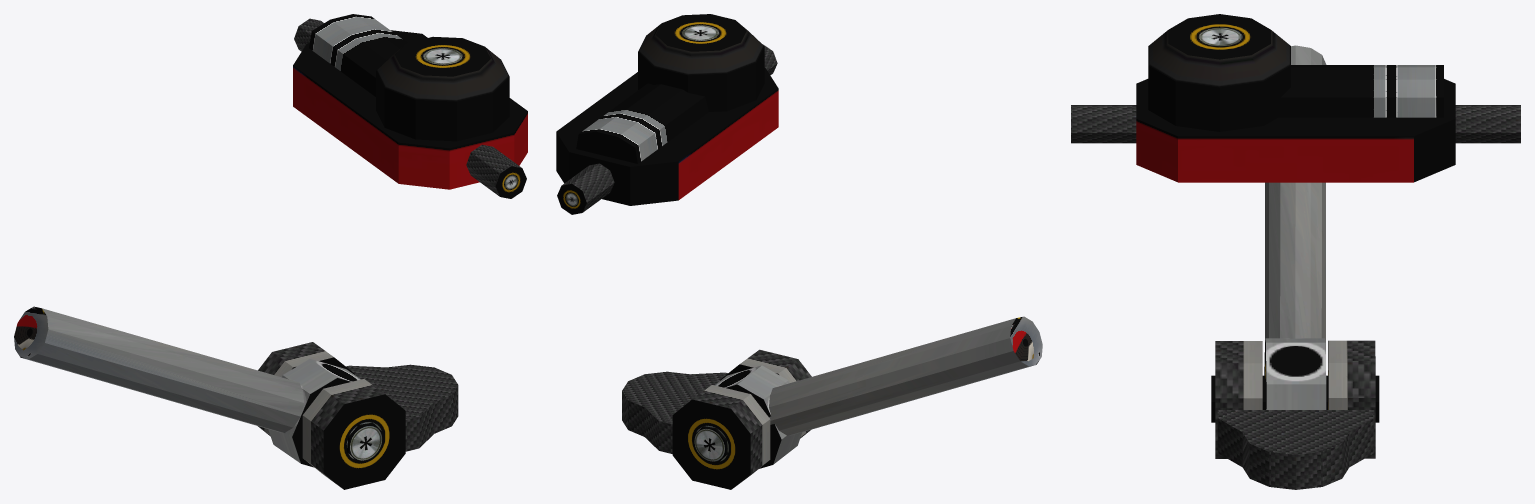
Rendered from K-WheelTraverse.fbx.
The picture shows the model from 3 angles, left to right: view 1: azimuth 30°, elevation 25°; view 2: azimuth 150°, elevation 25°; view 3: azimuth 270°, elevation 25°; orthographic projection. The views are drawn at different scales.
Visible parts, largest first — view 1: SuspMainPiston, WheeYawMount, WheeSteeringlMotor_A, WheelMotorHing_A, WheelSteeringBearing1, WheeSteeringlMotor_B, SuspMainPistonHing, WheeYawAxis, WheelMotorHing_B, SuspArmDumperHimgAxis_A1; view 2: SuspMainPiston, WheeYawMount, WheeSteeringlMotor_A, WheelMotorHing_B, WheeSteeringlMotor_B, WheelSteeringBearing1, SuspMainPistonHing, WheeYawAxis, WheelMotorHing_A, SuspArmDumperHimgAxis_A1; view 3: WheeYawMount, WheeSteeringlMotor_A, WheelSteeringBearing1, SuspMainPiston, WheeSteeringlMotor_B, WheeYawAxis, SuspMainPistonHing, WheelMotorHing_A, WheelMotorHing_B, SuspArmDumperHimgAxis_A1.
Boxes of the visible parts, <box> form: SuspMainPiston: <box>14,306,303,432</box>; WheeYawMount: <box>293,30,527,189</box>; WheeSteeringlMotor_A: <box>376,36,509,141</box>; WheelMotorHing_A: <box>302,379,405,489</box>; WheelSteeringBearing1: <box>346,364,458,451</box>; WheeSteeringlMotor_B: <box>309,14,407,96</box>; SuspMainPistonHing: <box>268,359,360,467</box>; WheeYawAxis: <box>294,18,526,198</box>; WheelMotorHing_B: <box>258,342,354,436</box>; SuspArmDumperHimgAxis_A1: <box>347,422,383,461</box>; SuspMainPiston: <box>769,316,1042,435</box>; WheeYawMount: <box>556,68,778,205</box>; WheeSteeringlMotor_A: <box>638,14,764,111</box>; WheelMotorHing_B: <box>672,385,770,489</box>; WheeSteeringlMotor_B: <box>576,83,708,163</box>; WheelSteeringBearing1: <box>622,371,727,453</box>; SuspMainPistonHing: <box>715,365,801,468</box>; WheeYawAxis: <box>557,44,777,214</box>; WheelMotorHing_A: <box>720,349,811,438</box>; SuspArmDumperHimgAxis_A1: <box>693,426,727,463</box>; WheeYawMount: <box>1136,79,1455,182</box>; WheeSteeringlMotor_A: <box>1148,14,1290,131</box>; WheelSteeringBearing1: <box>1217,410,1374,489</box>; SuspMainPiston: <box>1265,45,1326,353</box>; WheeSteeringlMotor_B: <box>1278,65,1443,117</box>; WheeYawAxis: <box>1071,105,1520,143</box>; SuspMainPistonHing: <box>1264,338,1326,409</box>; WheelMotorHing_A: <box>1215,341,1262,458</box>; WheelMotorHing_B: <box>1328,340,1375,458</box>; SuspArmDumperHimgAxis_A1: <box>1211,375,1379,422</box>.
Size of the model in its own units: 23.06 by 19.95 by 17.7.
